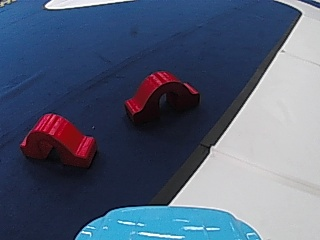bridge: (16, 110, 107, 168), (120, 66, 202, 125)
